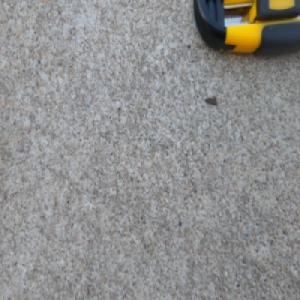Cutter: (192, 0, 300, 56)
